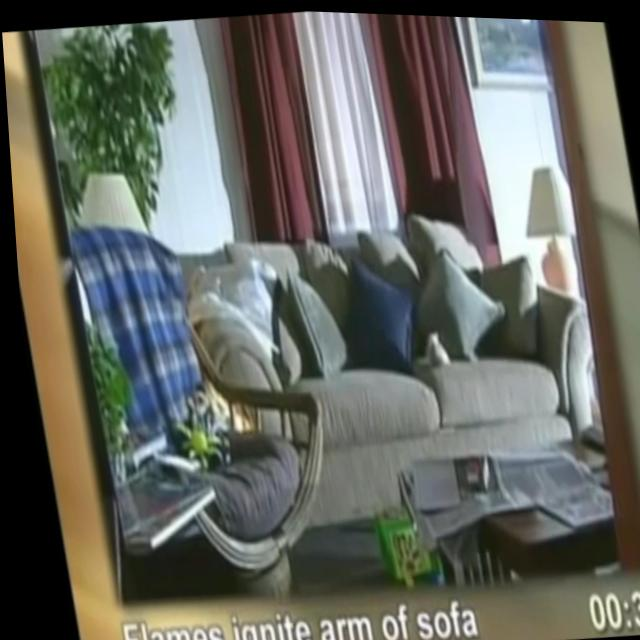fire: (200, 370, 249, 435)
